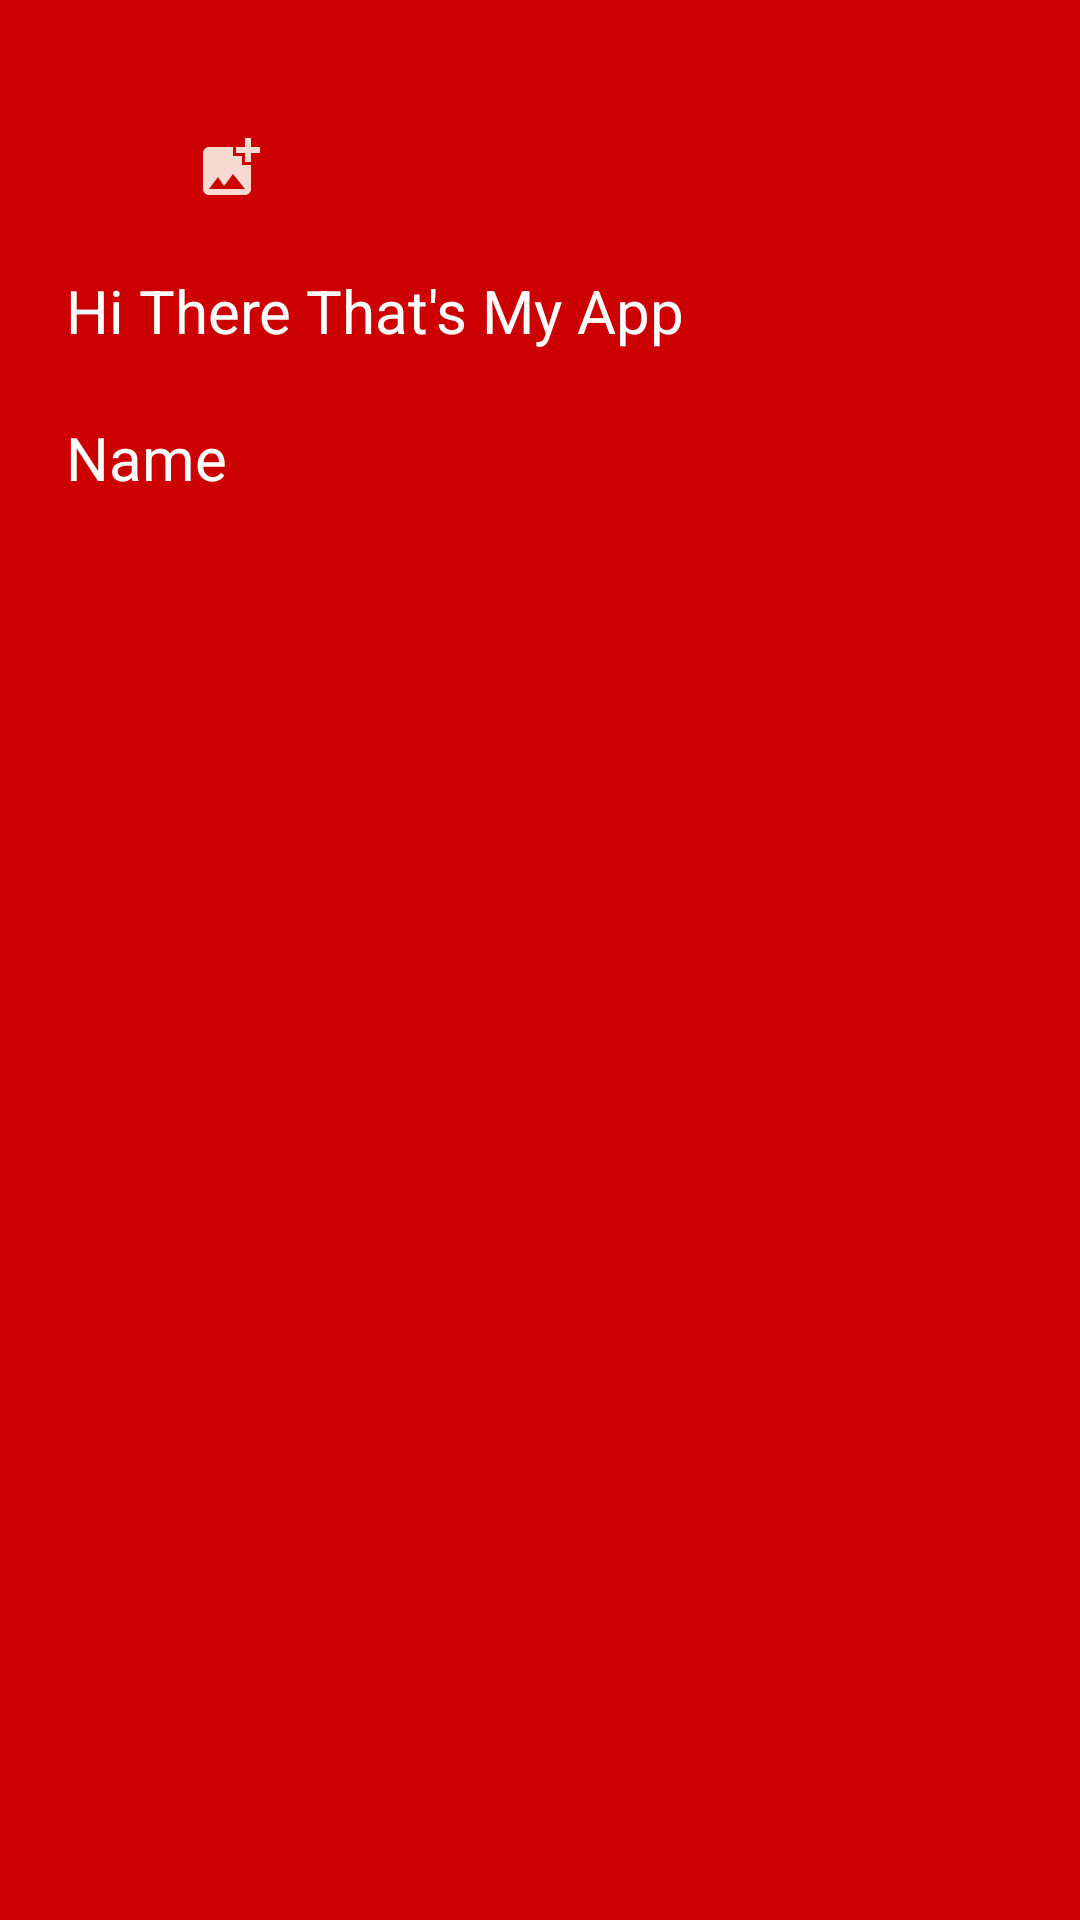

Locate icon controls on the screen. Image size 1080 x 1920, boxes as (x1, y1, x2, y2).
add photo alternate: (203, 138, 260, 195)
